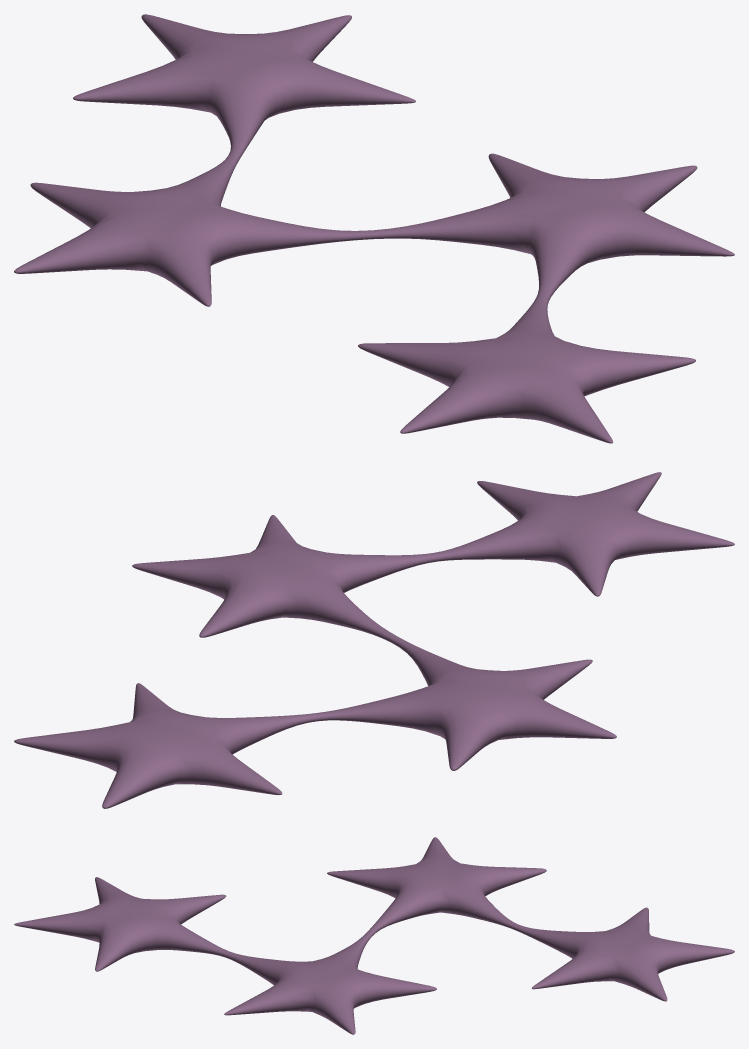
File: chromed_stars.glb
The picture shows the model from 3 angles, top to bottom: view 1: azimuth 30°, elevation 25°; view 2: azimuth 150°, elevation 25°; view 3: azimuth 270°, elevation 25°; orthographic projection. The views are drawn at different scales.
Visible parts, largest first — view 1: Cylinder; view 2: Cylinder; view 3: Cylinder.
Part boxes in pixels (bbox=[...]): Cylinder: bbox=[14, 14, 734, 443]; Cylinder: bbox=[14, 472, 734, 808]; Cylinder: bbox=[14, 837, 734, 1034].
Size of the model in its own units: 3.73 by 0.2563 by 5.78.
